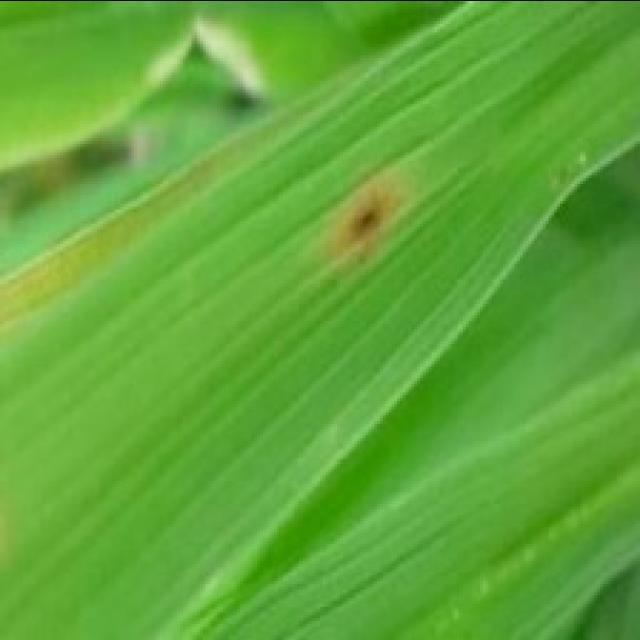Unhealthy: (313, 168, 424, 278), (145, 16, 262, 92)
